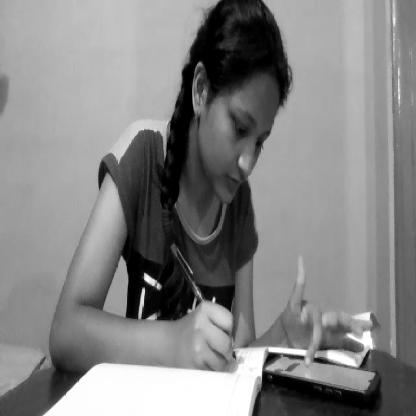Distracted: (176, 0, 295, 229)
